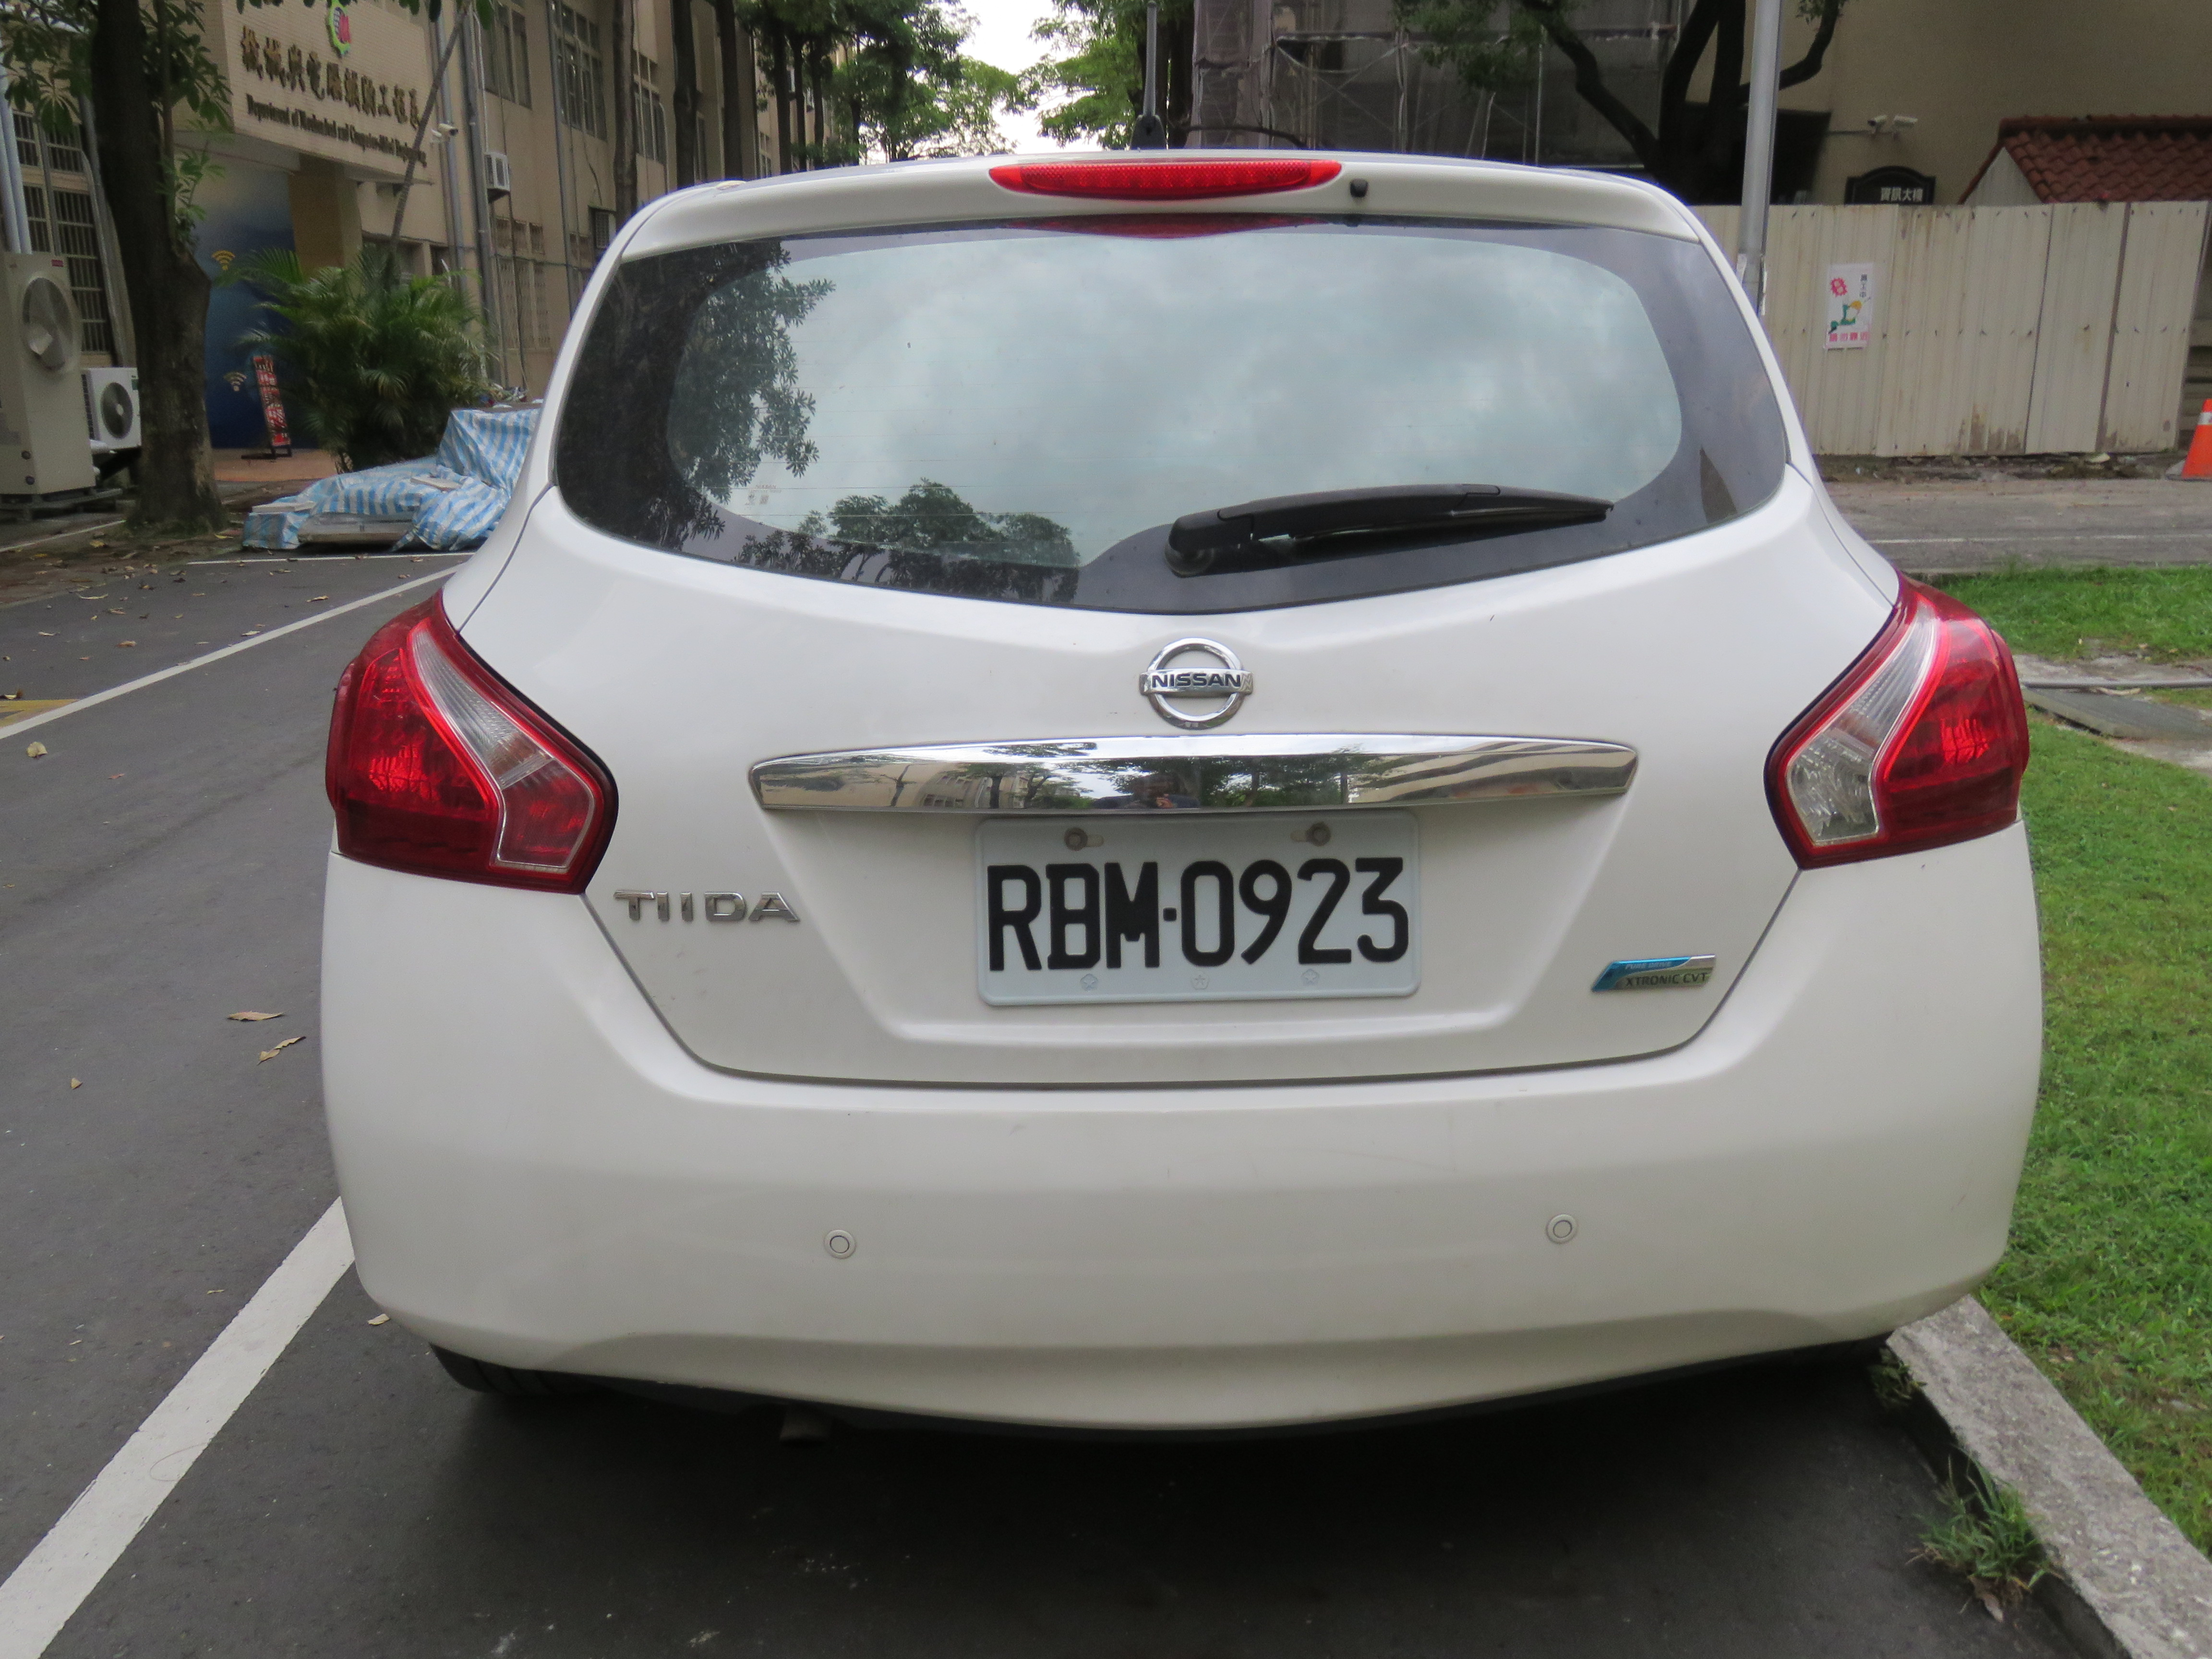car: (320, 146, 2052, 1432)
car_card: (981, 821, 1423, 1000)
